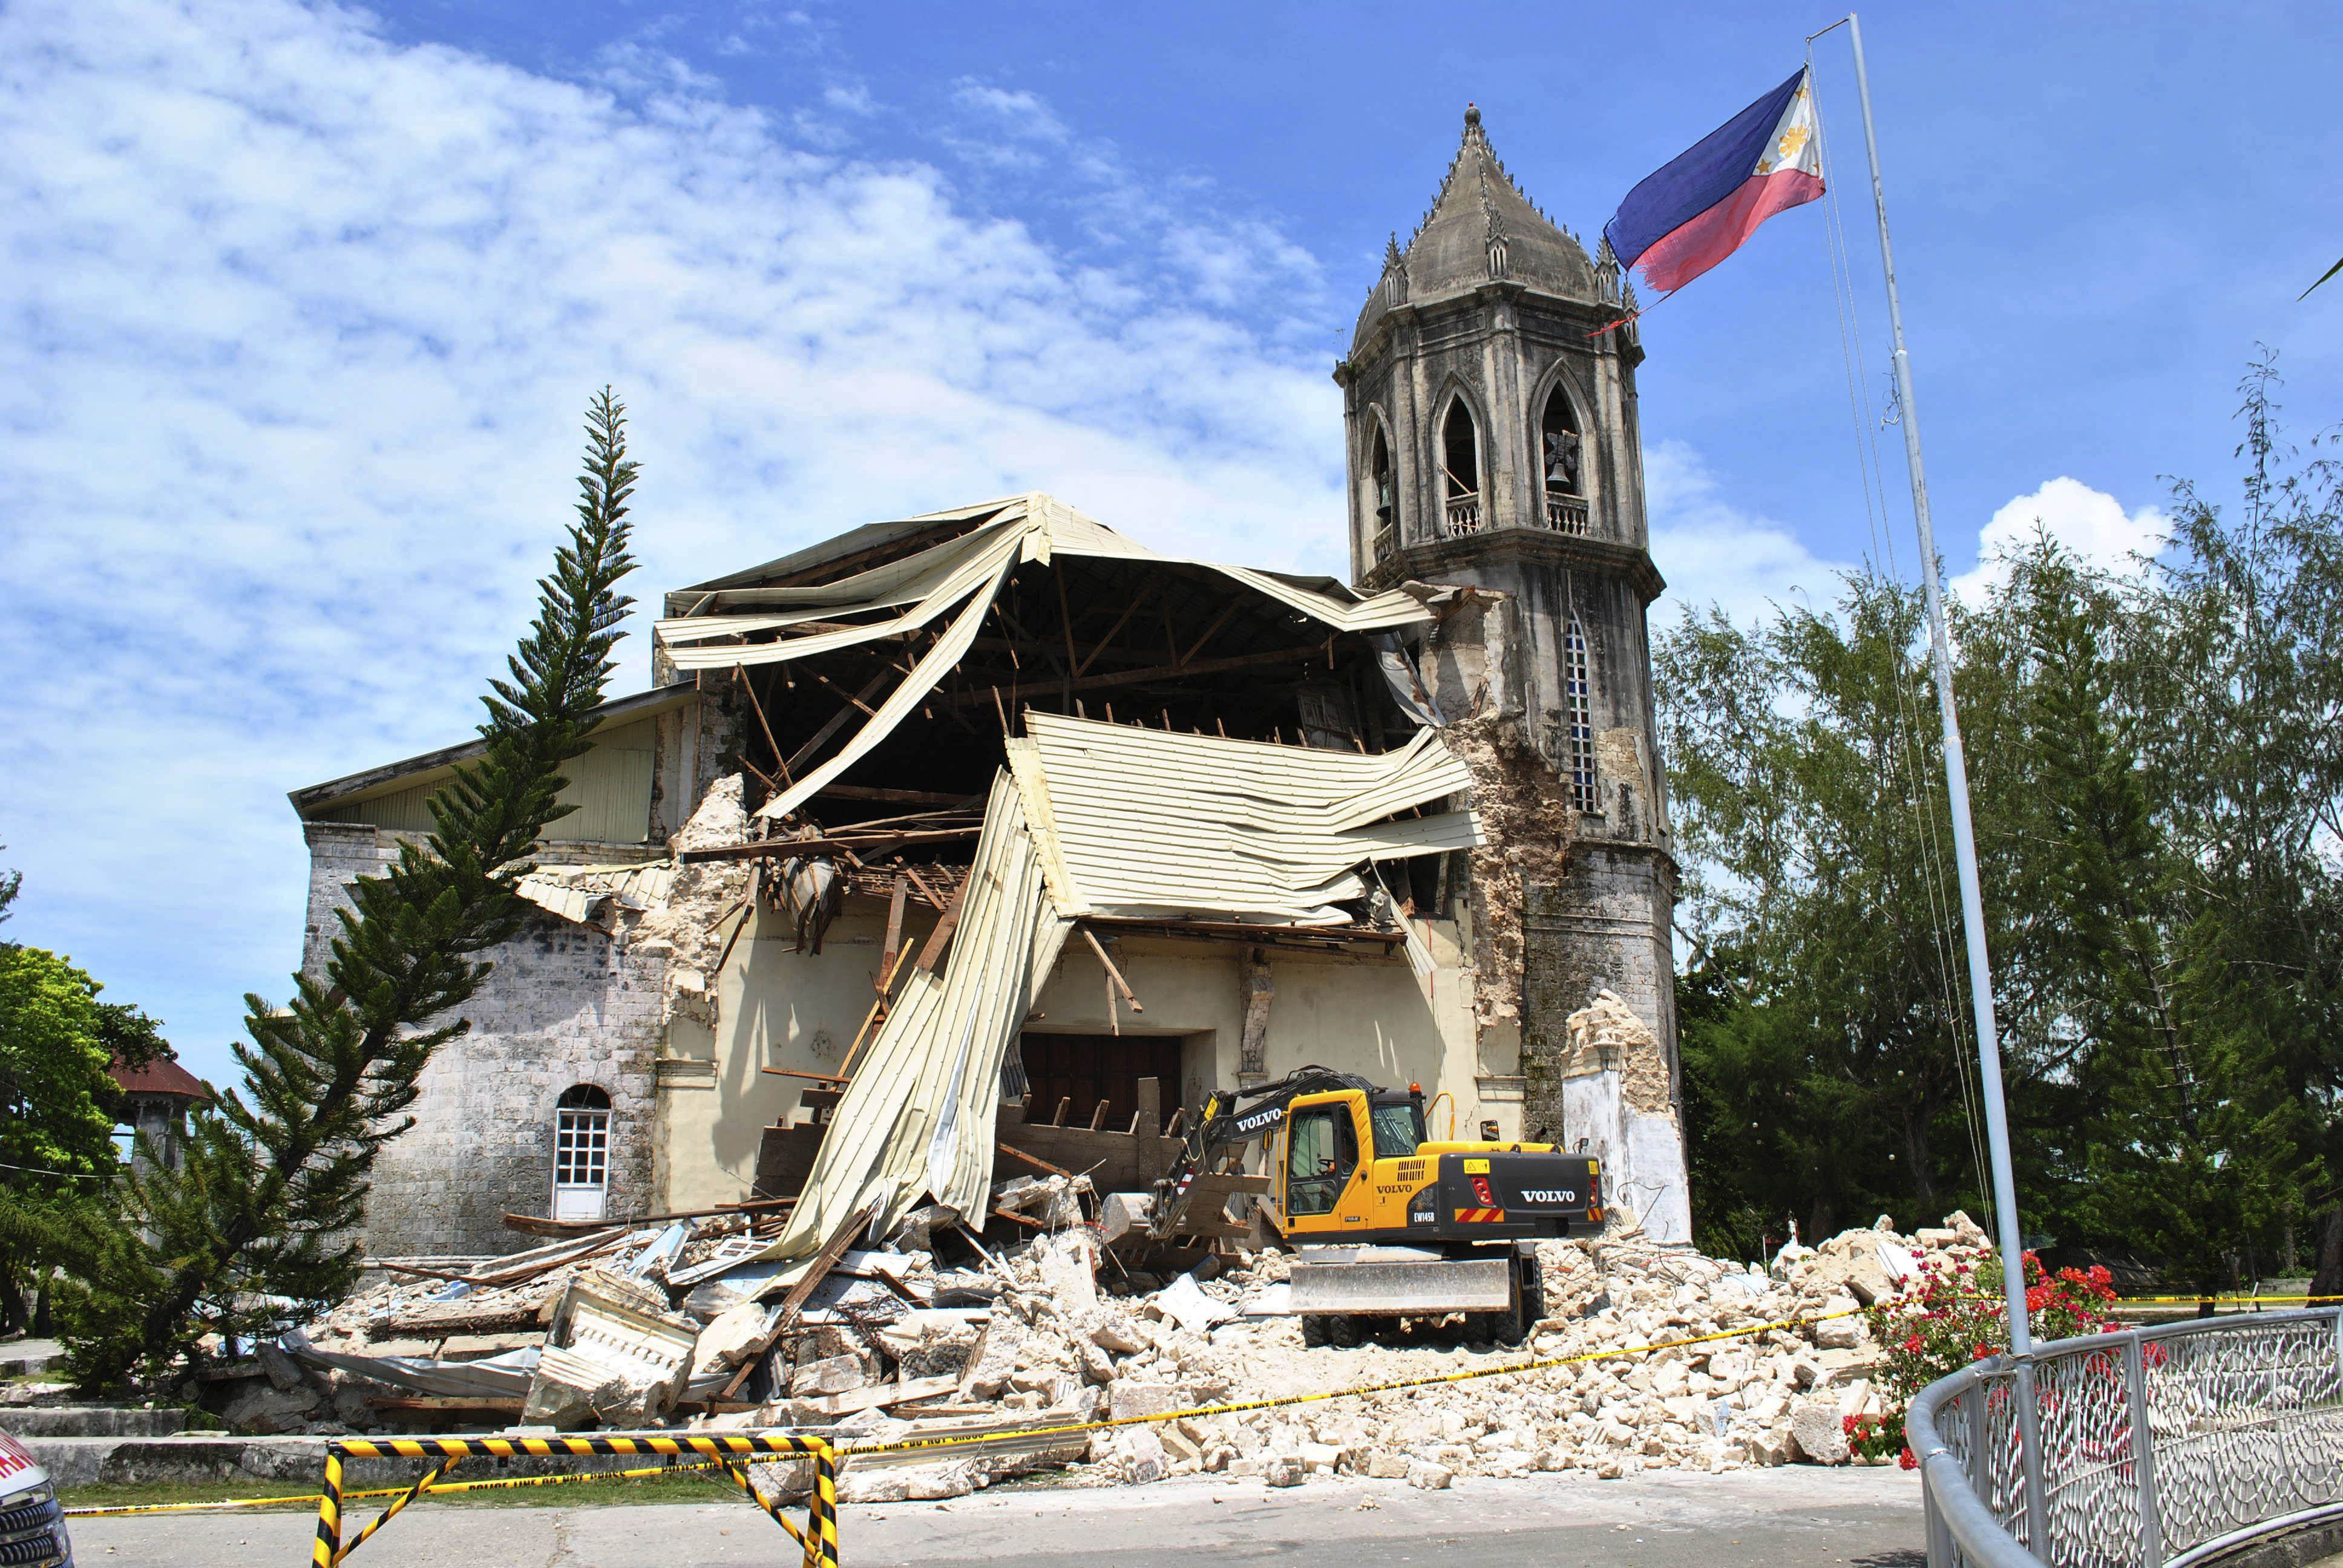sagging_roof: (667, 507, 1501, 1010)
